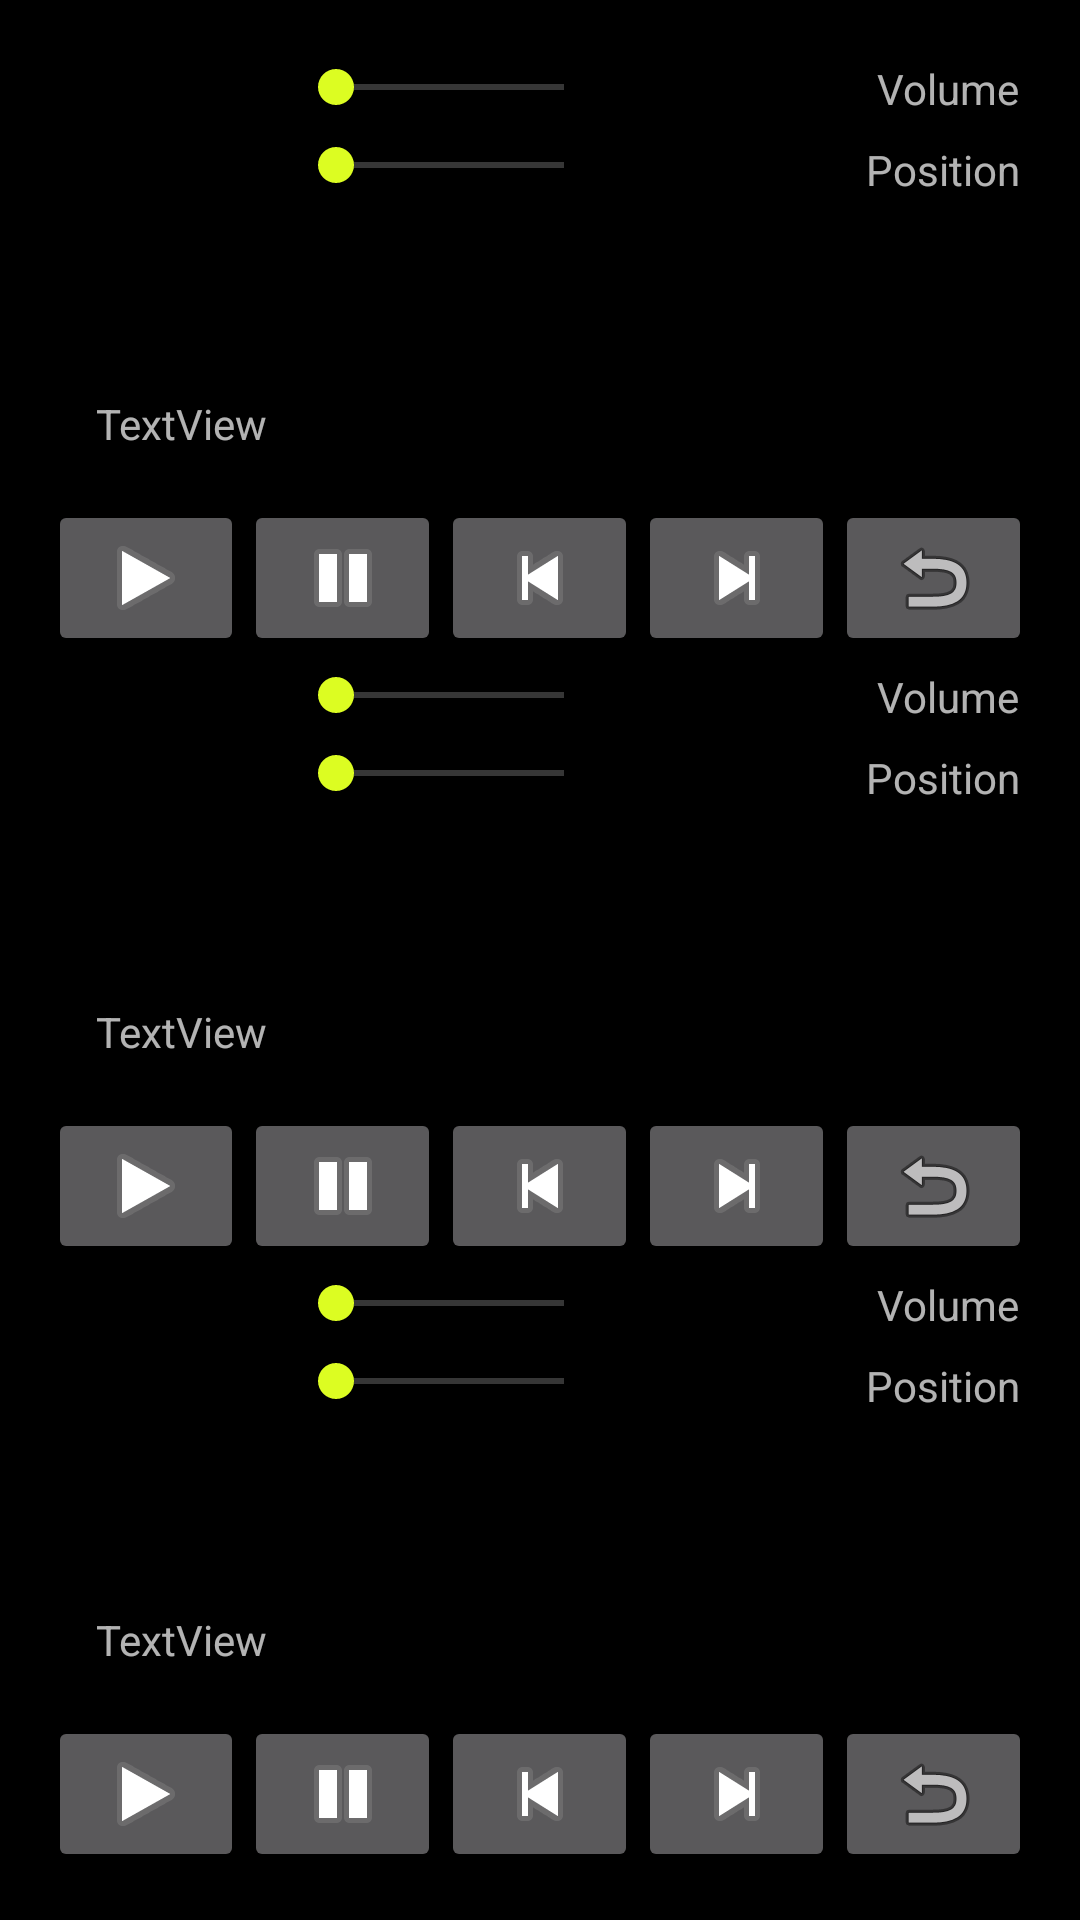

Where to tap for icons on this 1080 x 1920 app screen, as (x,y):
next: (736,578), (736,1186), (736,1794)
pause: (342,578), (342,1186), (342,1794)
play: (146,578), (146,1186), (146,1794)
previous: (539,578), (539,1186), (539,1794)
revert: (933,578), (933,1186), (933,1794)
